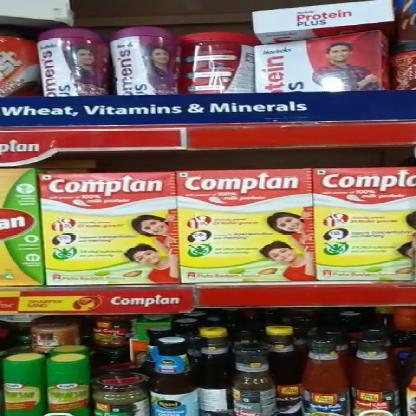Complan Pista Badam: (174, 168, 311, 284), (43, 170, 180, 284), (311, 166, 415, 281)
